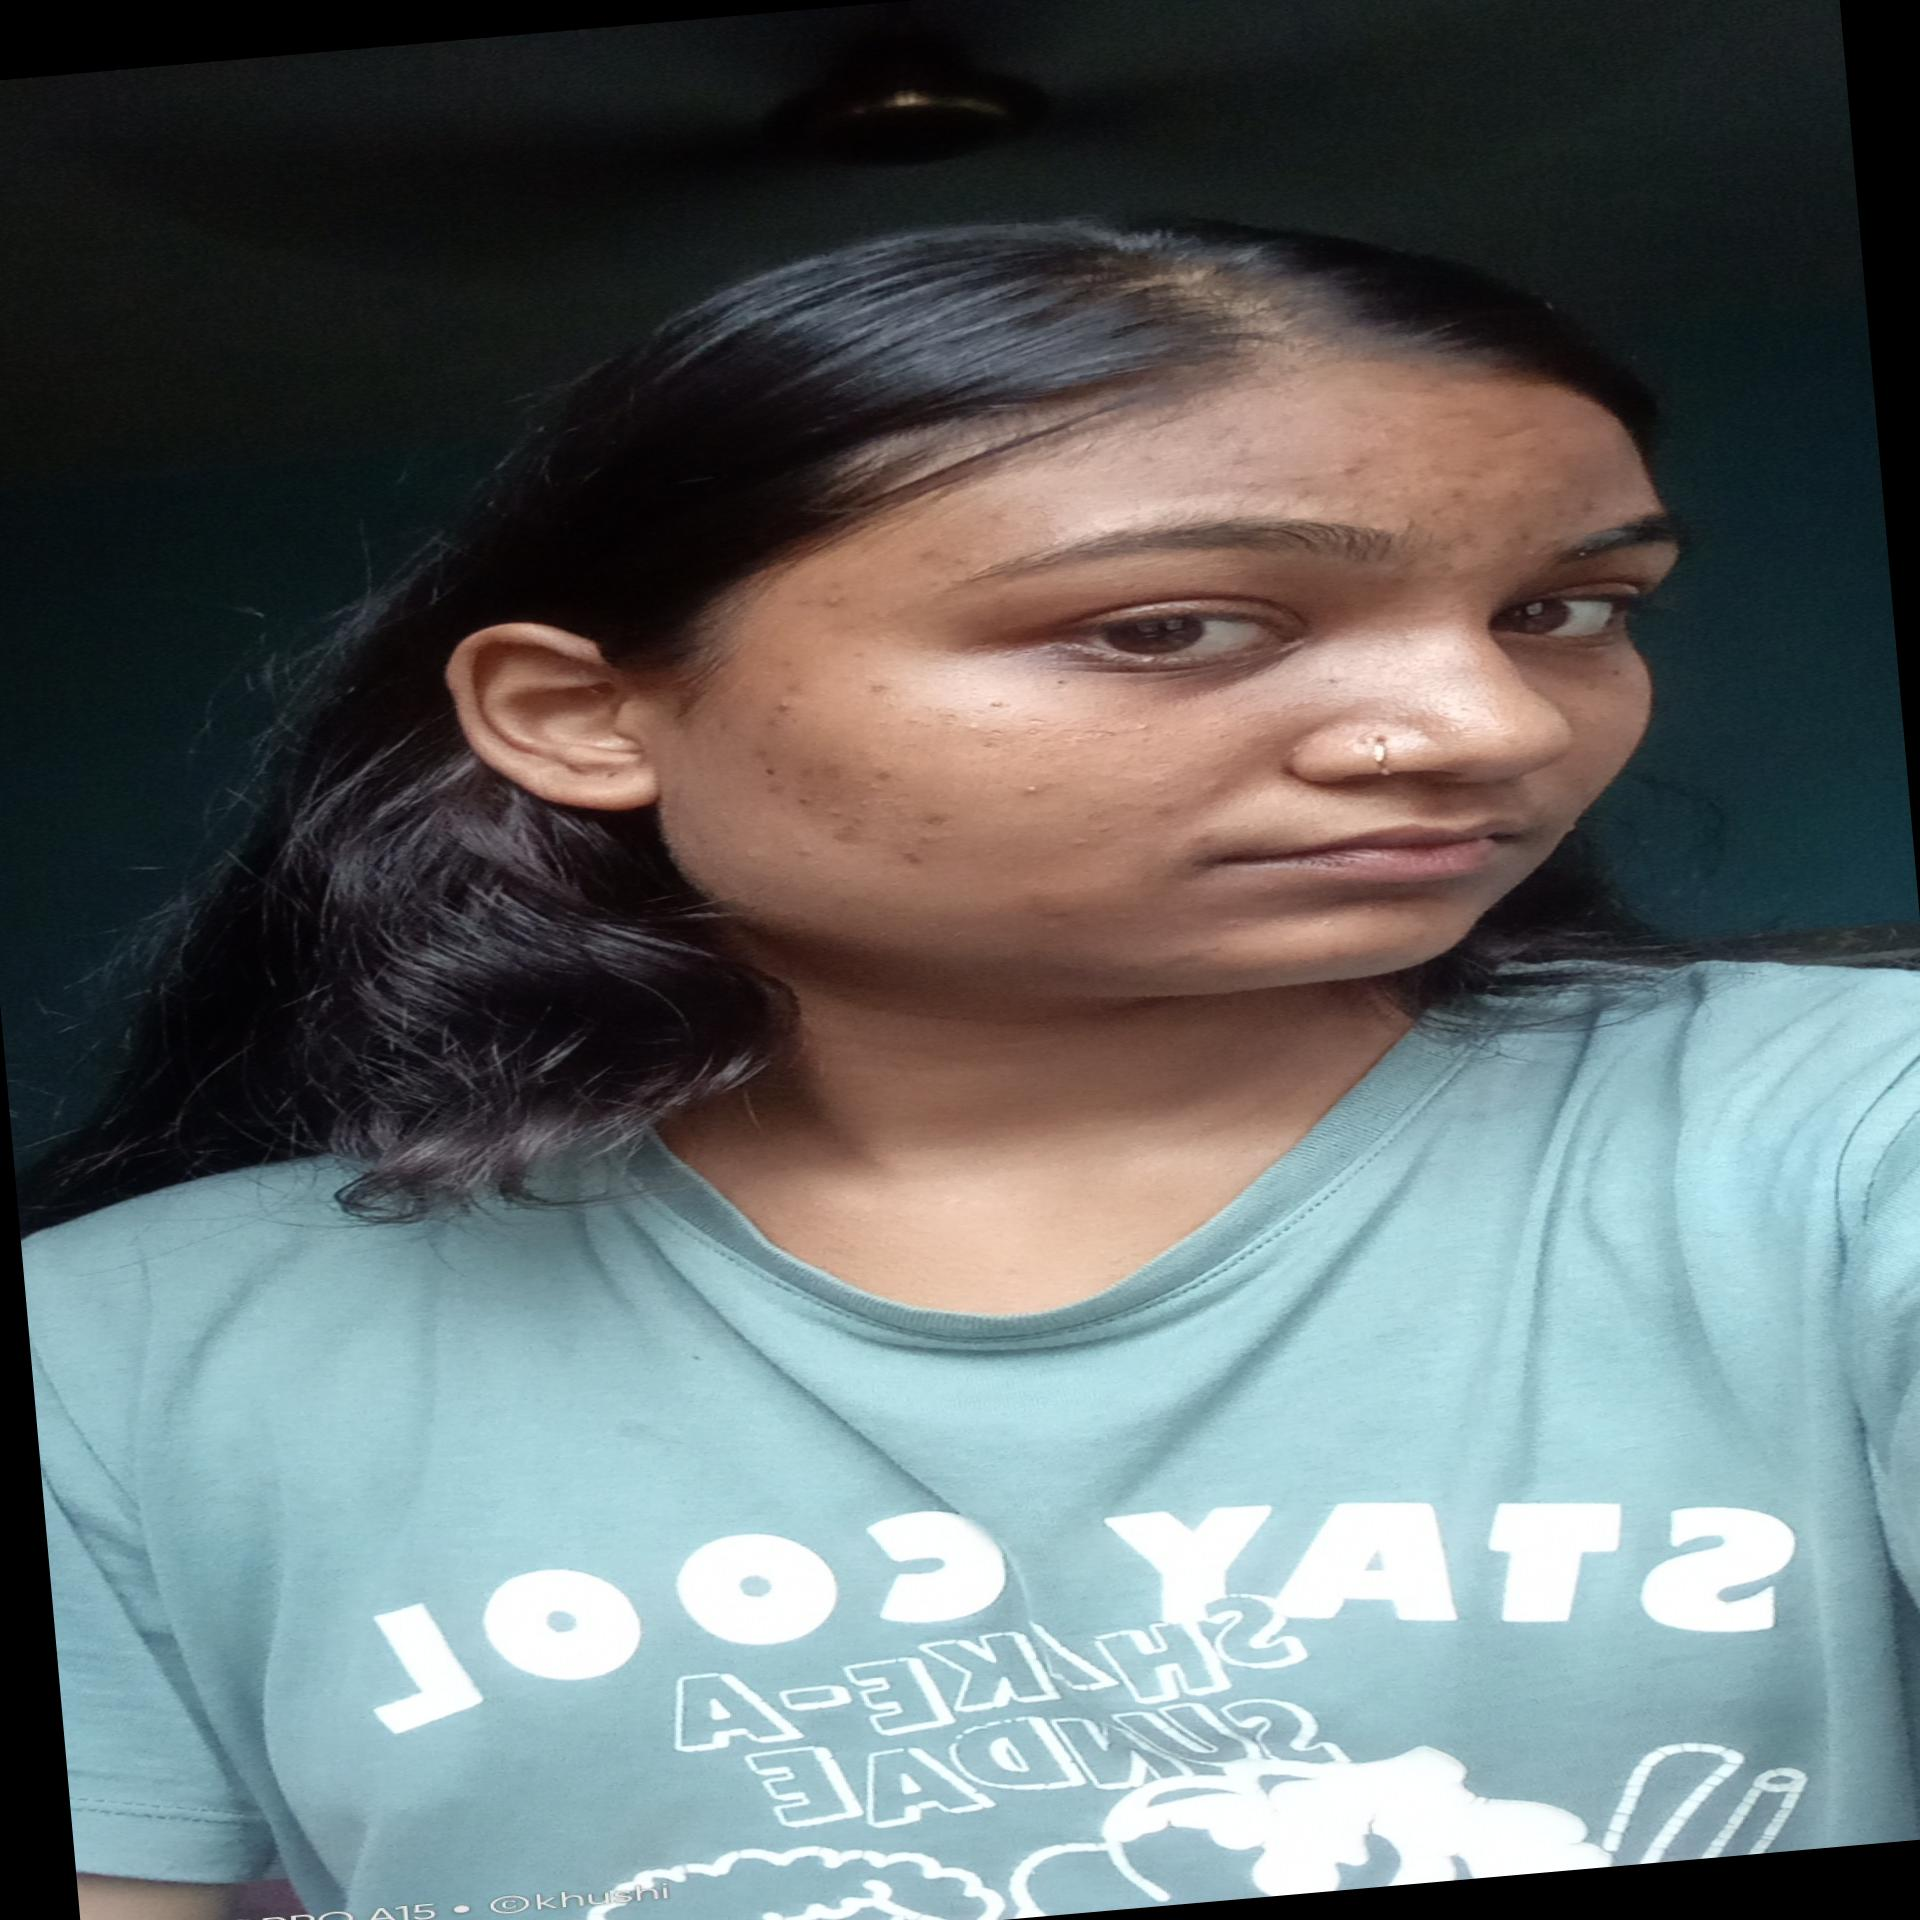Acne: (1187, 775, 1240, 804), (825, 821, 877, 846), (1124, 447, 1176, 471), (972, 503, 1020, 529), (863, 767, 913, 791), (918, 807, 965, 832), (816, 587, 858, 612), (893, 842, 932, 869), (1055, 832, 1101, 853), (1565, 498, 1609, 519), (775, 675, 816, 698), (867, 677, 898, 705), (1336, 452, 1382, 471), (1507, 526, 1542, 550), (1180, 828, 1215, 851), (1009, 781, 1050, 800), (1148, 795, 1183, 816), (753, 761, 784, 784), (941, 552, 981, 570), (819, 802, 855, 819), (1444, 485, 1472, 506), (913, 547, 942, 563), (768, 700, 795, 716), (1561, 475, 1588, 491)
